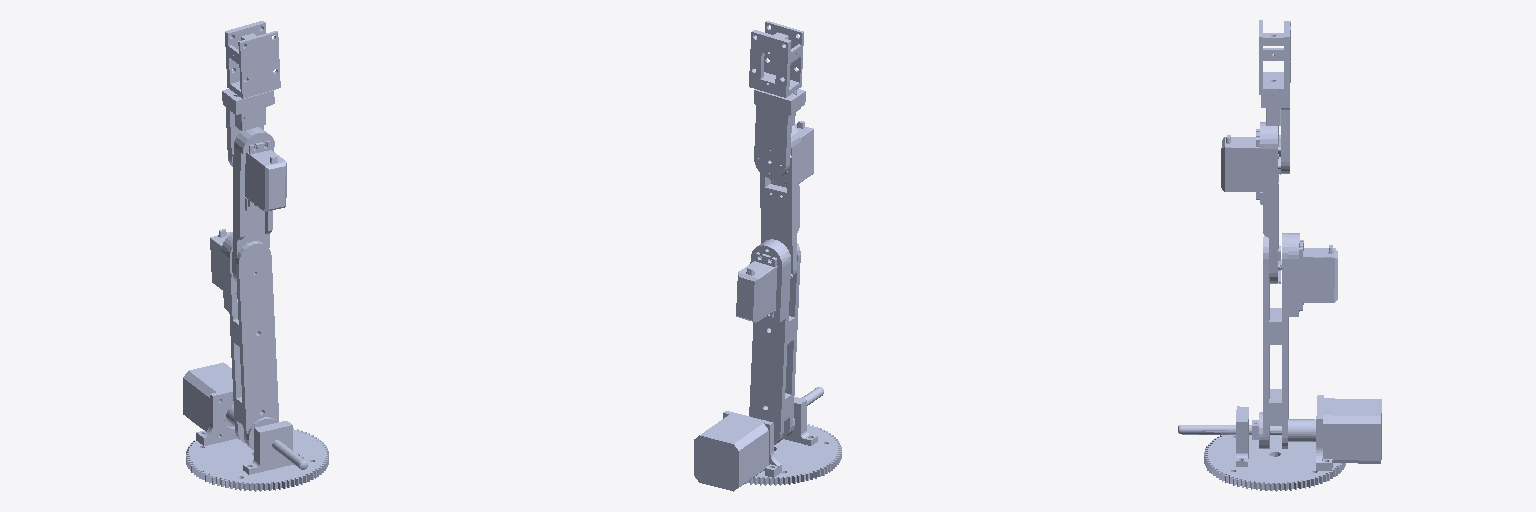
The robot description file, URDF, robot "me380_cad_v5":
<?xml version="1.0" encoding="utf-8"?>
<!-- This URDF was automatically created by SolidWorks to URDF Exporter! Originally created by [author] ([email redacted]) 
     Commit Version: 1.6.0-4-g7f85cfe  Build Version: 1.6.7995.38578
     For more information, please see http://wiki.ros.org/sw_urdf_exporter -->
<robot
  name="me380_cad_v5">
  <link
    name="base_link">
    <inertial>
      <origin
        xyz="0.0522932135147619 -0.18067140283444 0.0875612634639433"
        rpy="0 0 0" />
      <mass
        value="1.35255746018343" />
      <inertia
        ixx="0.00189091104894194"
        ixy="5.42395418264451E-07"
        ixz="2.67640218585123E-11"
        iyy="0.00255687837370546"
        iyz="3.30038025312018E-09"
        izz="0.00393603850190369" />
    </inertial>
    <visual>
      <origin
        xyz="0 0 0"
        rpy="0 0 0" />
      <geometry>
        <mesh
          filename="package://me380_cad_v5/meshes/base_link.STL" />
      </geometry>
      <material
        name="">
        <color
          rgba="0.792156862745098 0.819607843137255 0.933333333333333 1" />
      </material>
    </visual>
    <collision>
      <origin
        xyz="0 0 0"
        rpy="0 0 0" />
      <geometry>
        <mesh
          filename="package://me380_cad_v5/meshes/base_link.STL" />
      </geometry>
    </collision>
  </link>
  <link
    name="link_1">
    <inertial>
      <origin
        xyz="-0.0179445976065808 0.0314909418196055 0"
        rpy="0 0 0" />
      <mass
        value="0.162510495828017" />
      <inertia
        ixx="0.000125604508205239"
        ixy="-7.37081194630986E-08"
        ixz="1.68543903721048E-20"
        iyy="7.7238957692824E-05"
        iyz="4.00223067577657E-20"
        izz="7.76607837695106E-05" />
    </inertial>
    <visual>
      <origin
        xyz="0 0 0"
        rpy="0 0 0" />
      <geometry>
        <mesh
          filename="package://me380_cad_v5/meshes/link_1.STL" />
      </geometry>
      <material
        name="">
        <color
          rgba="0.792156862745098 0.819607843137255 0.933333333333333 1" />
      </material>
    </visual>
    <collision>
      <origin
        xyz="0 0 0"
        rpy="0 0 0" />
      <geometry>
        <mesh
          filename="package://me380_cad_v5/meshes/link_1.STL" />
      </geometry>
    </collision>
  </link>
  <joint
    name="joint_1"
    type="continuous">
    <origin
      xyz="0.032747 -0.18382 0.12101"
      rpy="0.021282 1.5708 0" />
    <parent
      link="base_link" />
    <child
      link="link_1" />
    <axis
      xyz="1 0 0" />
  </joint>
  <link
    name="link_2">
    <inertial>
      <origin
        xyz="1.1102E-09 0.085132 -0.0092363"
        rpy="0 0 0" />
      <mass
        value="0.11377" />
      <inertia
        ixx="0.00016894"
        ixy="-1.1876E-12"
        ixz="-2.0729E-12"
        iyy="1.6048E-05"
        iyz="1.5521E-06"
        izz="0.00016657" />
    </inertial>
    <visual>
      <origin
        xyz="0 0 0"
        rpy="0 0 0" />
      <geometry>
        <mesh
          filename="package://me380_cad_v5/meshes/link_2.STL" />
      </geometry>
      <material
        name="">
        <color
          rgba="0.79216 0.81961 0.93333 1" />
      </material>
    </visual>
    <collision>
      <origin
        xyz="0 0 0"
        rpy="0 0 0" />
      <geometry>
        <mesh
          filename="package://me380_cad_v5/meshes/link_2.STL" />
      </geometry>
    </collision>
  </link>
  <joint
    name="joint_2"
    type="revolute">
    <origin
      xyz="-0.0275 0 0"
      rpy="-1.5708 -1.5235 -3.1416" />
    <parent
      link="link_1" />
    <child
      link="link_2" />
    <axis
      xyz="0 0 1" />
    <limit
      lower="0"
      upper="1.5"
      effort="0"
      velocity="0" />
  </joint>
  <link
    name="link_3">
    <inertial>
      <origin
        xyz="0.0543595327677955 0.0482580763067868 0.0132044336691434"
        rpy="0 0 0" />
      <mass
        value="0.0620624024350165" />
      <inertia
        ixx="2.86646066269404E-05"
        ixy="-2.31444388908013E-05"
        ixz="-1.18068690544208E-06"
        iyy="3.41886405552942E-05"
        iyz="-1.04816082647547E-06"
        izz="5.38088012904953E-05" />
    </inertial>
    <visual>
      <origin
        xyz="0 0 0"
        rpy="0 0 0" />
      <geometry>
        <mesh
          filename="package://me380_cad_v5/meshes/link_3.STL" />
      </geometry>
      <material
        name="">
        <color
          rgba="0.792156862745098 0.819607843137255 0.933333333333333 1" />
      </material>
    </visual>
    <collision>
      <origin
        xyz="0 0 0"
        rpy="0 0 0" />
      <geometry>
        <mesh
          filename="package://me380_cad_v5/meshes/link_3.STL" />
      </geometry>
    </collision>
  </link>
  <joint
    name="joint_3"
    type="revolute">
    <origin
      xyz="0 0.1435 0"
      rpy="0 0 0.78681" />
    <parent
      link="link_2" />
    <child
      link="link_3" />
    <axis
      xyz="0 0 1" />
    <limit
      lower="0"
      upper="1.5"
      effort="0"
      velocity="0" />
  </joint>
  <link
    name="link_4">
    <inertial>
      <origin
        xyz="0.006543395356051 -0.0329653821167126 0.00365894186800841"
        rpy="0 0 0" />
      <mass
        value="0.0291151921128789" />
      <inertia
        ixx="1.01445688324126E-05"
        ixy="1.38095622917004E-06"
        ixz="2.09148634088064E-07"
        iyy="3.23002692467395E-06"
        iyz="-1.1208081603941E-06"
        izz="1.18491862729629E-05" />
    </inertial>
    <visual>
      <origin
        xyz="0 0 0"
        rpy="0 0 0" />
      <geometry>
        <mesh
          filename="package://me380_cad_v5/meshes/link_4.STL" />
      </geometry>
      <material
        name="">
        <color
          rgba="0.792156862745098 0.819607843137255 0.933333333333333 1" />
      </material>
    </visual>
    <collision>
      <origin
        xyz="0 0 0"
        rpy="0 0 0" />
      <geometry>
        <mesh
          filename="package://me380_cad_v5/meshes/link_4.STL" />
      </geometry>
    </collision>
  </link>
  <joint
    name="joint_4"
    type="revolute">
    <origin
      xyz="0.073194 0.064978 0.0003"
      rpy="3.1416 0 -0.59346" />
    <parent
      link="link_3" />
    <child
      link="link_4" />
    <axis
      xyz="0 0 1" />
    <limit
      lower="0"
      upper="1.5"
      effort="0"
      velocity="0" />
  </joint>
  <link
    name="link_5">
    <inertial>
      <origin
        xyz="-0.0258257641576719 -0.00137914286193988 2.34214968344582E-05"
        rpy="0 0 0" />
      <mass
        value="0.0169938902766803" />
      <inertia
        ixx="2.3875661008469E-06"
        ixy="-2.86566655769345E-07"
        ixz="1.25893253420805E-10"
        iyy="6.2811768892114E-06"
        iyz="-1.75698056990636E-09"
        izz="4.8501976160637E-06" />
    </inertial>
    <visual>
      <origin
        xyz="0 0 0"
        rpy="0 0 0" />
      <geometry>
        <mesh
          filename="package://me380_cad_v5/meshes/link_5.STL" />
      </geometry>
      <material
        name="">
        <color
          rgba="0.792156862745098 0.819607843137255 0.933333333333333 1" />
      </material>
    </visual>
    <collision>
      <origin
        xyz="0 0 0"
        rpy="0 0 0" />
      <geometry>
        <mesh
          filename="package://me380_cad_v5/meshes/link_5.STL" />
      </geometry>
    </collision>
  </link>
  <joint
    name="joint_5"
    type="revolute">
    <origin
      xyz="0.016169 -0.055622 -0.0012"
      rpy="-1.5817 0 1.7646" />
    <parent
      link="link_4" />
    <child
      link="link_5" />
    <axis
      xyz="1 0 0" />
    <limit
      lower="0"
      upper="3"
      effort="0"
      velocity="0" />
  </joint>
</robot>

--- What the picture shows (computed from the rendered views, not written in the file) ---
The picture shows the robot from 3 angles, left to right: view 1: azimuth 30°, elevation 25°; view 2: azimuth 150°, elevation 25°; view 3: azimuth 270°, elevation 25°; orthographic projection.
Robot: me380_cad_v5 — 6 links, 5 joints (4 revolute, 1 continuous); root link base_link; default pose: every joint at zero.
Visible links, largest first — view 1: link_2, link_1, link_3, link_5, link_4; view 2: link_2, link_1, link_3, link_5, link_4; view 3: link_1, link_2, link_3, link_5, link_4.
Boxes of the visible links, left/top/right/bottom form: link_2: left=210, top=229, right=307, bottom=469; link_1: left=183, top=362, right=328, bottom=491; link_3: left=231, top=127, right=286, bottom=281; link_5: left=225, top=21, right=280, bottom=98; link_4: left=222, top=89, right=274, bottom=166; link_2: left=736, top=239, right=823, bottom=444; link_1: left=694, top=397, right=841, bottom=491; link_3: left=760, top=121, right=813, bottom=280; link_5: left=749, top=21, right=803, bottom=97; link_4: left=754, top=89, right=805, bottom=178; link_1: left=1204, top=395, right=1381, bottom=491; link_2: left=1178, top=233, right=1337, bottom=448; link_3: left=1221, top=122, right=1281, bottom=283; link_5: left=1259, top=20, right=1290, bottom=95; link_4: left=1261, top=79, right=1290, bottom=174.
Bounding box of the posed robot: 0.1143 × 0.1642 × 0.3811 m (x, y, z).
5 mesh visuals loaded from 6 distinct referenced files (5 binary STL); not drawn: 1 (reference not matched to a file when rendering).